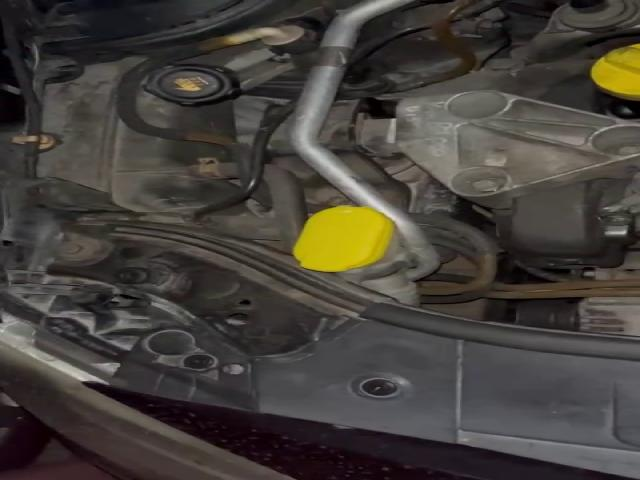antifreeze_tank: (38, 56, 241, 213)
